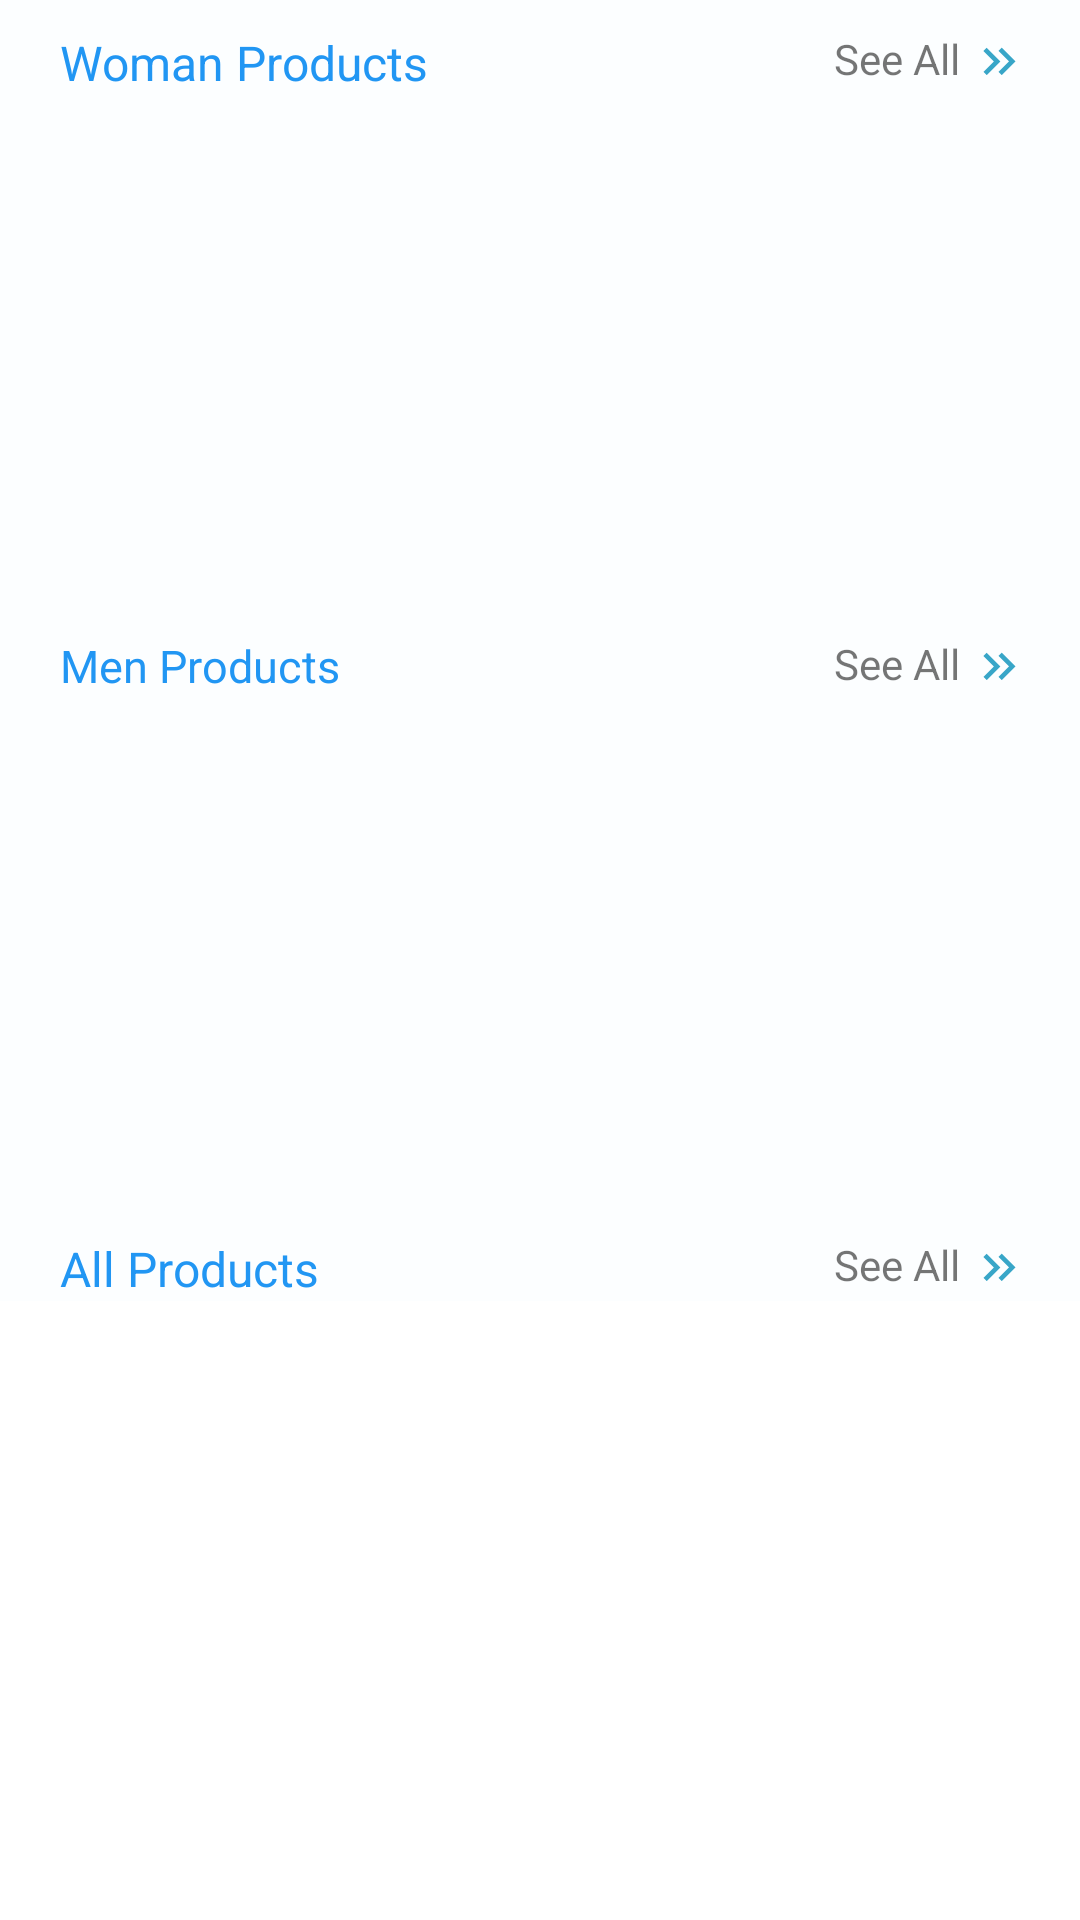

Screen size 1080 × 1920. Icon name, then its box in pixels as (x1=x1, y1=y1, x2=x2, y2=y2):
next: (x1=983, y1=47, x2=1016, y2=75), (x1=983, y1=652, x2=1016, y2=680), (x1=983, y1=1253, x2=1016, y2=1281)
